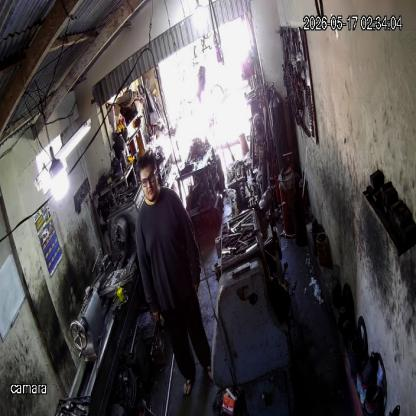lentes: (139, 170, 156, 187)
